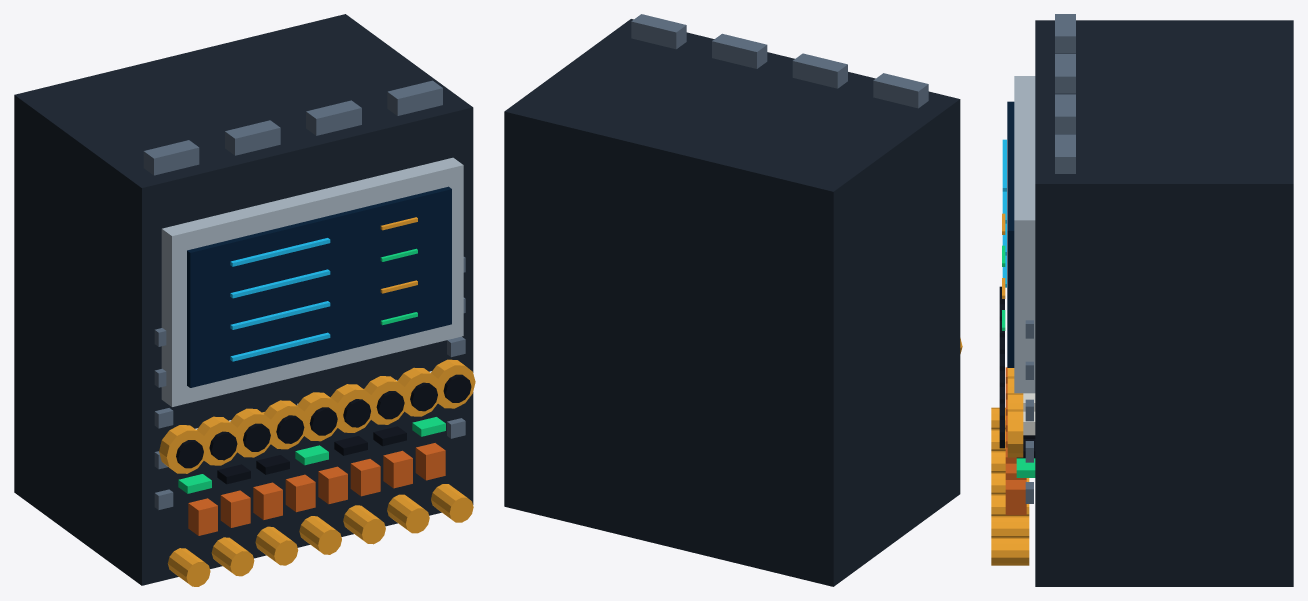
File: 73_L87_Protected5VControlSupply.fbx
3 views of the same model, side by side, from view 1: azimuth 30°, elevation 25°; view 2: azimuth 150°, elevation 25°; view 3: azimuth 270°, elevation 25° (orthographic).
Parts seen in each view (by area): view 1: L87_Protected5VControlSupply, L87_Protected5VControlSupply_Part_0010, L87_Protected5VControlSupply_Part_0014, L87_Protected5VControlSupply_Part_0012, L87_Protected5VControlSupply_Part_0016, L87_Protected5VControlSupply_Part_0018, L87_Protected5VControlSupply_Part_0020, L87_Protected5VControlSupply_Part_0026, L87_Protected5VControlSupply_Part_0022, L87_Protected5VControlSupply_Part_0024, L87_Protected5VControlSupply_Part_0019, L87_Protected5VControlSupply_Part_0013 (+7 smaller); view 2: L87_Protected5VControlSupply; view 3: L87_Protected5VControlSupply, L87_Protected5VControlSupply_Part_0026.
Part boxes in pixels (left/top/right/bottom): L87_Protected5VControlSupply: left=14, top=14, right=473, bottom=586; L87_Protected5VControlSupply_Part_0010: left=159, top=425, right=207, bottom=473; L87_Protected5VControlSupply_Part_0014: left=230, top=408, right=274, bottom=457; L87_Protected5VControlSupply_Part_0012: left=197, top=416, right=241, bottom=465; L87_Protected5VControlSupply_Part_0016: left=263, top=400, right=308, bottom=449; L87_Protected5VControlSupply_Part_0018: left=297, top=392, right=341, bottom=441; L87_Protected5VControlSupply_Part_0020: left=330, top=384, right=375, bottom=432; L87_Protected5VControlSupply_Part_0026: left=431, top=359, right=475, bottom=408; L87_Protected5VControlSupply_Part_0022: left=364, top=376, right=408, bottom=424; L87_Protected5VControlSupply_Part_0024: left=397, top=367, right=441, bottom=416; L87_Protected5VControlSupply_Part_0019: left=309, top=407, right=337, bottom=435; L87_Protected5VControlSupply_Part_0013: left=209, top=431, right=237, bottom=460; L87_Protected5VControlSupply: left=504, top=14, right=960, bottom=586; L87_Protected5VControlSupply: left=991, top=14, right=1293, bottom=586; L87_Protected5VControlSupply_Part_0026: left=1007, top=409, right=1023, bottom=457.
Bounding box in the file's own units: 104 × 124 × 81.09.
